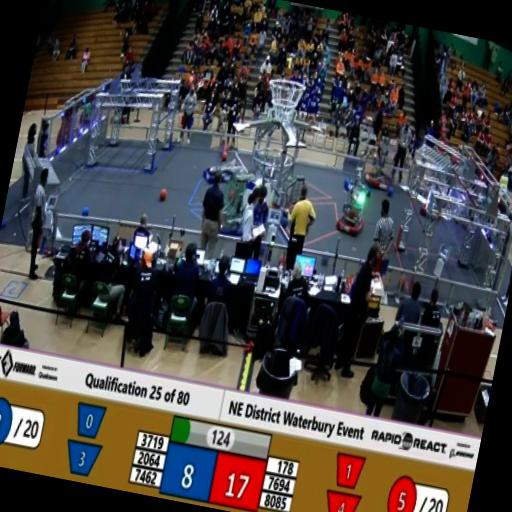robot: (214, 167, 260, 238), (260, 170, 306, 230), (202, 126, 244, 188), (334, 178, 374, 242), (360, 141, 404, 199), (417, 169, 450, 224)
